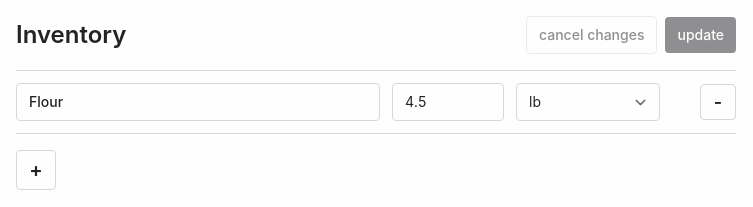
Test case: EditableInventoryList.svelte › changes the delete button to add when a delete is pending
This screenshot has width=753, height=207.
Click the button named "Delete Flour" at x=718, y=102, box [700,84,736,120]
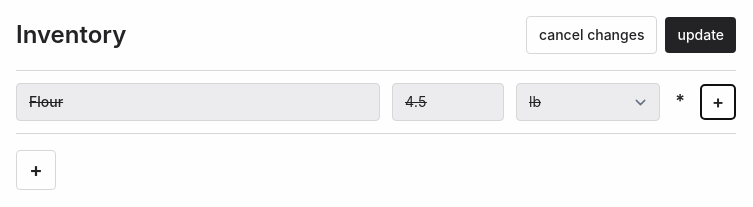
Check: the button named "Undelete Flour" reads "+", box [700,84,736,120]
